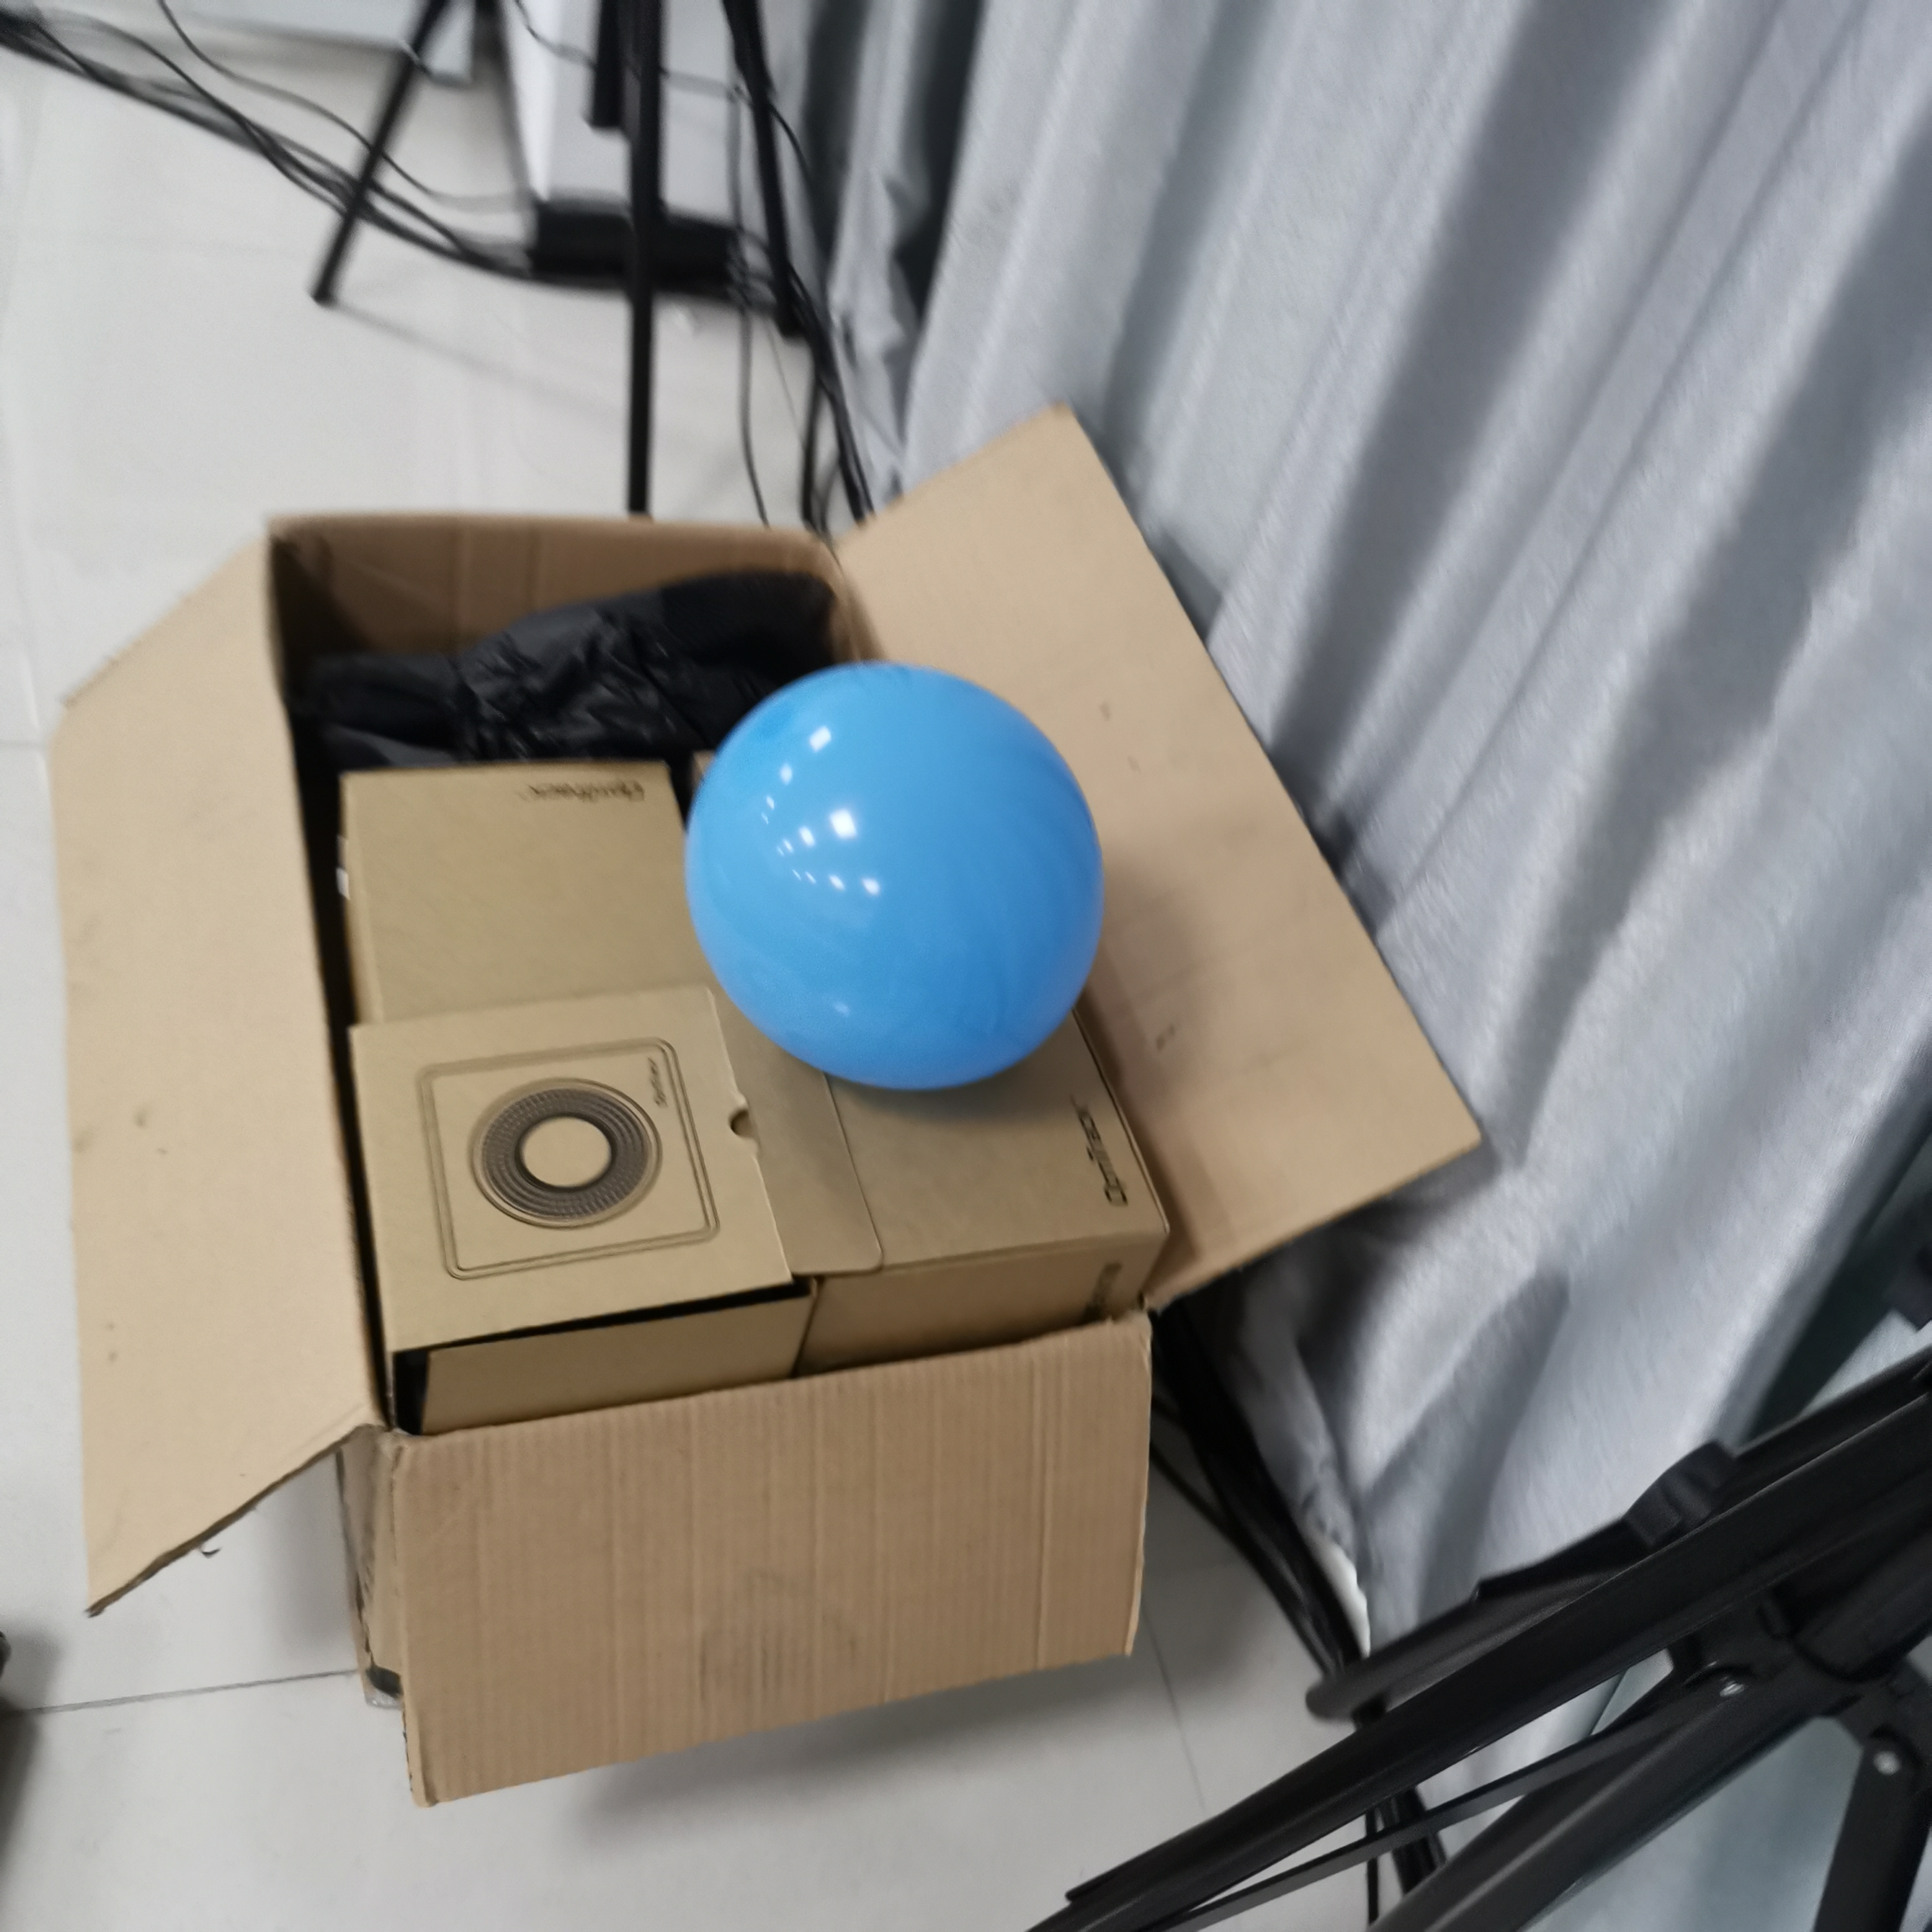balloon: (685, 662, 1108, 1093)
